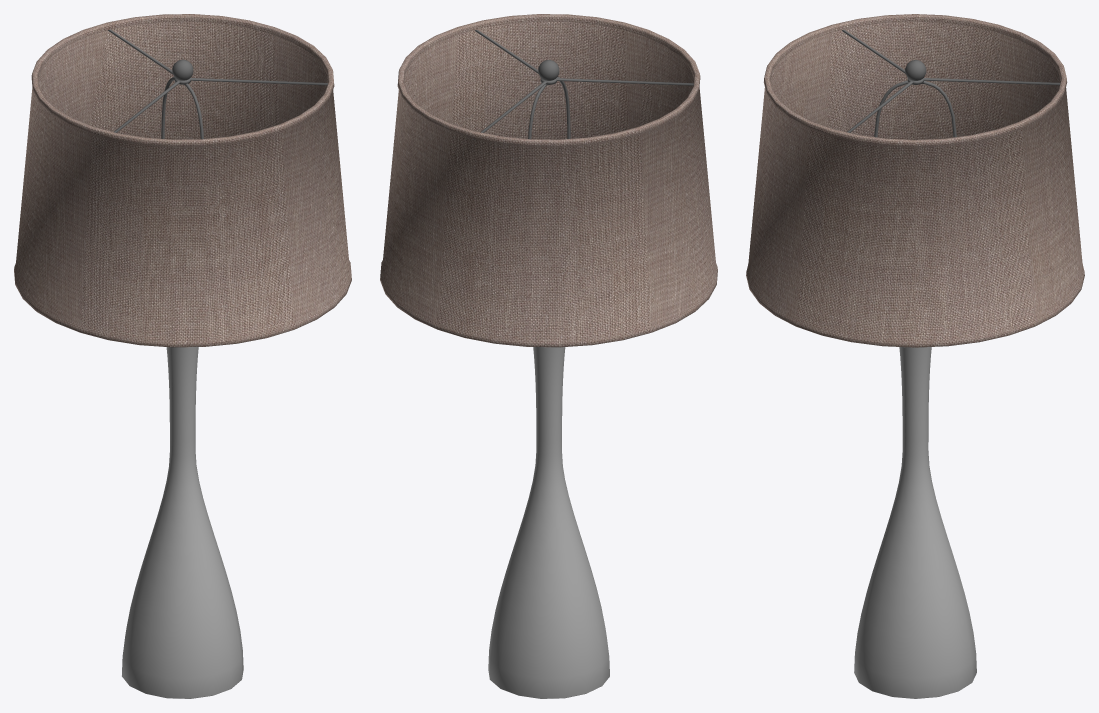
File: table_lamp.glb
3 views of the same model, side by side, from view 1: azimuth 30°, elevation 25°; view 2: azimuth 150°, elevation 25°; view 3: azimuth 270°, elevation 25° (orthographic).
Parts seen in each view (by area): view 1: TableLamp_0; view 2: TableLamp_0; view 3: TableLamp_0.
Boxes of the visible parts, <box> form: TableLamp_0: <box>14,14,351,698</box>; TableLamp_0: <box>380,14,717,698</box>; TableLamp_0: <box>746,14,1084,698</box>.
Bounding box in the file's own units: 0.4319 × 0.8619 × 0.4319.
4 materials, 1 textured.
